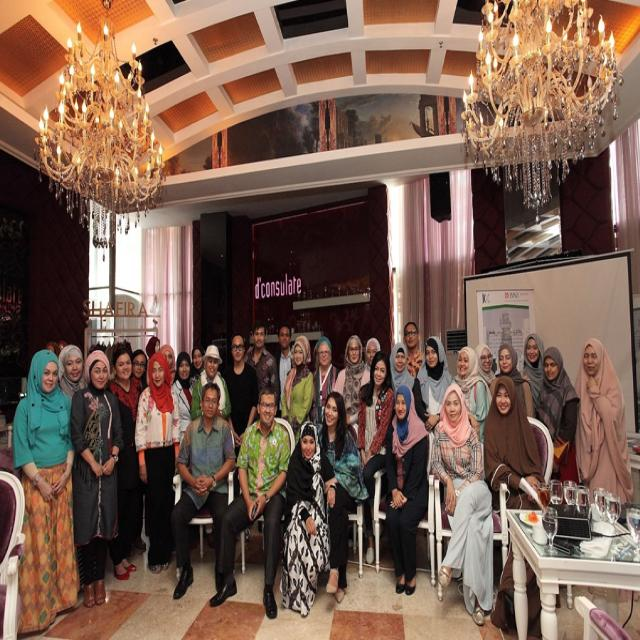body: (208, 382, 292, 623), (9, 347, 78, 636), (428, 379, 497, 628), (169, 379, 236, 600), (69, 346, 122, 608), (310, 387, 370, 605), (278, 415, 338, 618), (572, 335, 635, 507), (134, 350, 180, 576), (383, 384, 430, 595), (104, 343, 144, 582), (353, 347, 395, 566), (481, 372, 545, 511), (534, 345, 582, 508), (220, 332, 260, 505), (449, 346, 491, 445), (332, 333, 371, 439), (242, 319, 281, 419), (413, 333, 452, 432), (281, 334, 314, 445), (488, 342, 534, 418), (190, 344, 232, 422), (169, 349, 198, 453), (310, 335, 341, 426), (388, 340, 421, 420), (272, 321, 296, 419), (520, 328, 546, 418), (56, 344, 89, 400), (358, 336, 382, 390), (402, 321, 424, 378), (473, 342, 496, 388), (128, 348, 148, 395), (158, 342, 177, 386), (190, 344, 205, 378), (139, 333, 162, 351)
